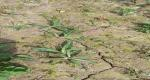osot: (43, 50, 102, 67), (31, 40, 90, 54), (41, 29, 88, 43), (25, 18, 71, 31)
